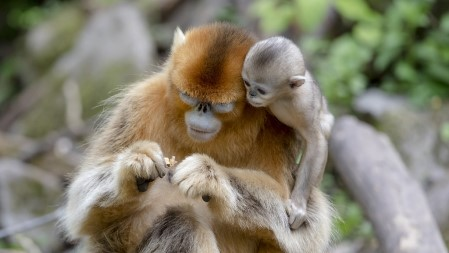GoldenSnub-Nosed: (73, 18, 328, 250), (241, 32, 333, 177)
